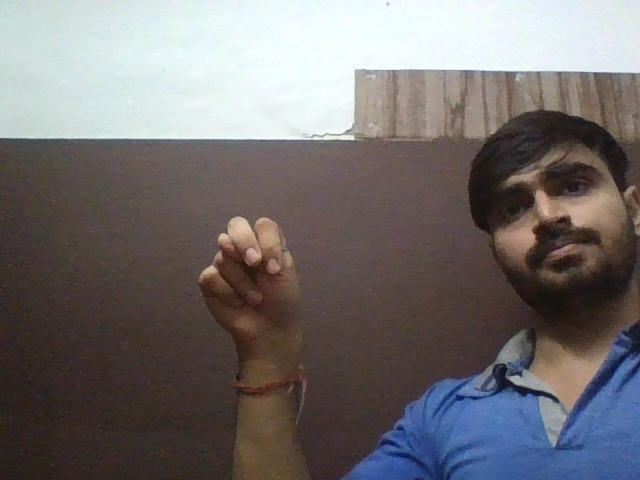M: (175, 206, 335, 374)
